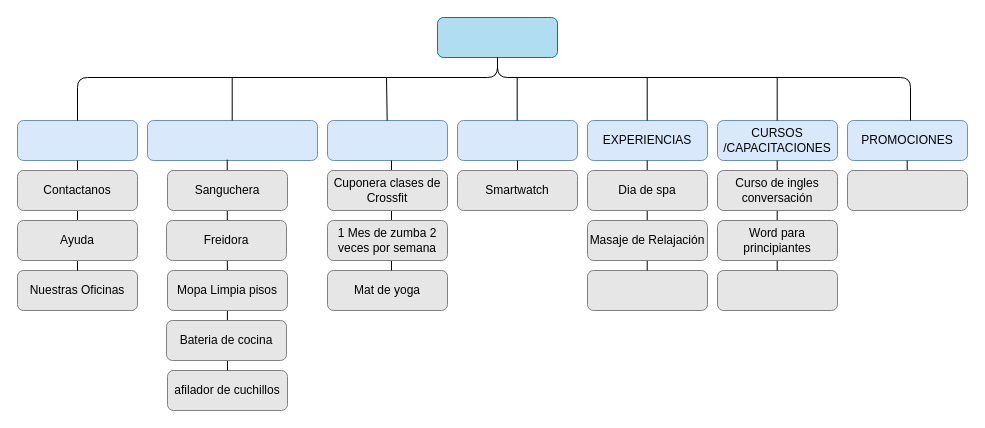
This 985x428 diagram has some shape labels left out. Each missing label, with the centre of its shape:
"2x1 en tu combo Burger agrandado" goes at [907,190].
"Curso básico Excel" goes at [777,290].
"DEPORTE" goes at [387,140].
"Fin de semana en Valparaiso" goes at [647,290].
"HOGAR Y ELECTRODOOMESTICOS" goes at [232,140].
"HOME" goes at [497,37].
"INFORMACIONES" goes at [77,140].
"TECNOLOGIA" goes at [517,140].
